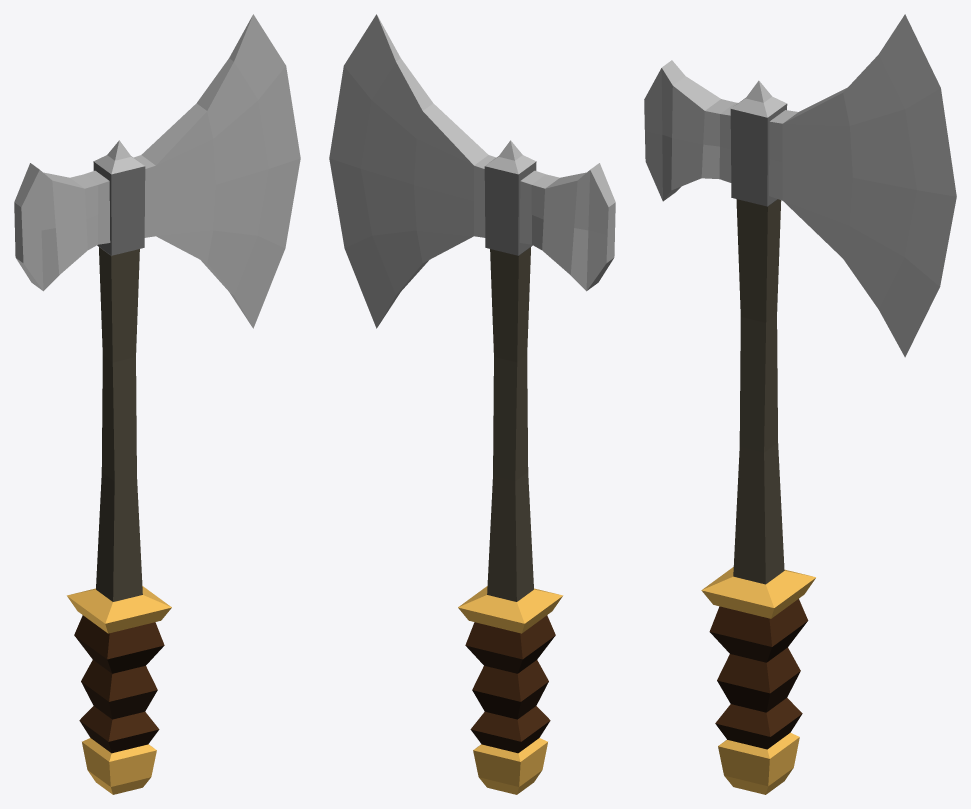
The model's file is Axe_M_AD_003.fbx.
The picture shows the model from 3 angles, left to right: view 1: azimuth 30°, elevation 25°; view 2: azimuth 150°, elevation 25°; view 3: azimuth 330°, elevation 25°; orthographic projection. The views are drawn at different scales.
Parts seen in each view (by area): view 1: Axe_M_AD_003; view 2: Axe_M_AD_003; view 3: Axe_M_AD_003.
Boxes of the visible parts, left/top/right/bottom form: Axe_M_AD_003: left=14, top=14, right=300, bottom=794; Axe_M_AD_003: left=329, top=14, right=615, bottom=794; Axe_M_AD_003: left=644, top=14, right=956, bottom=794.
Size of the model in its own units: 0.407 by 1.01 by 0.0962.
